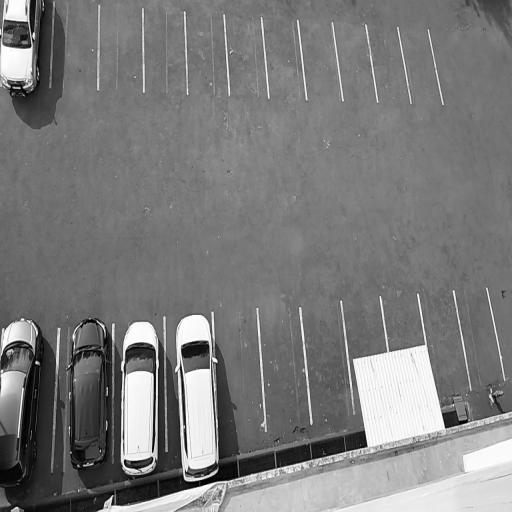Car: (0, 316, 54, 497), (172, 311, 223, 483), (65, 311, 111, 470), (120, 315, 160, 478)
Space Available: (258, 306, 312, 429), (214, 308, 265, 433), (301, 302, 353, 423), (454, 286, 506, 390), (419, 290, 471, 393), (51, 1, 100, 88), (98, 5, 144, 92), (143, 8, 187, 95), (184, 13, 229, 96), (332, 19, 376, 102), (366, 22, 411, 103), (225, 13, 268, 97), (262, 18, 306, 99), (299, 18, 341, 101), (398, 27, 443, 102), (342, 296, 387, 358), (381, 294, 426, 348)
